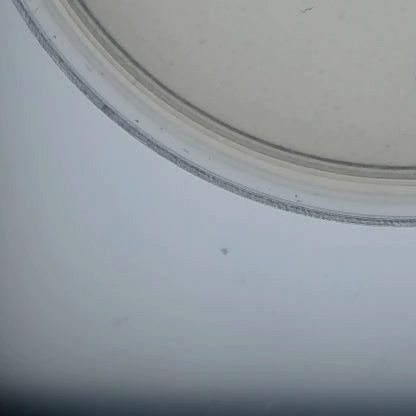worm: (292, 1, 319, 18)
